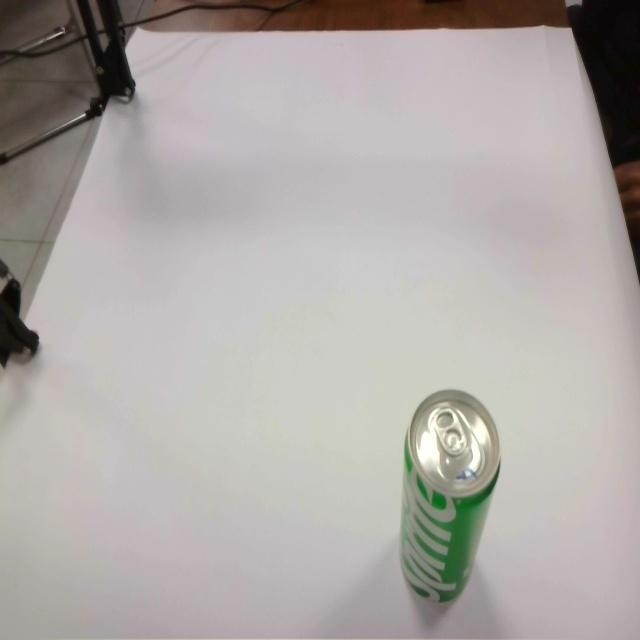debris: (399, 388, 502, 605)
